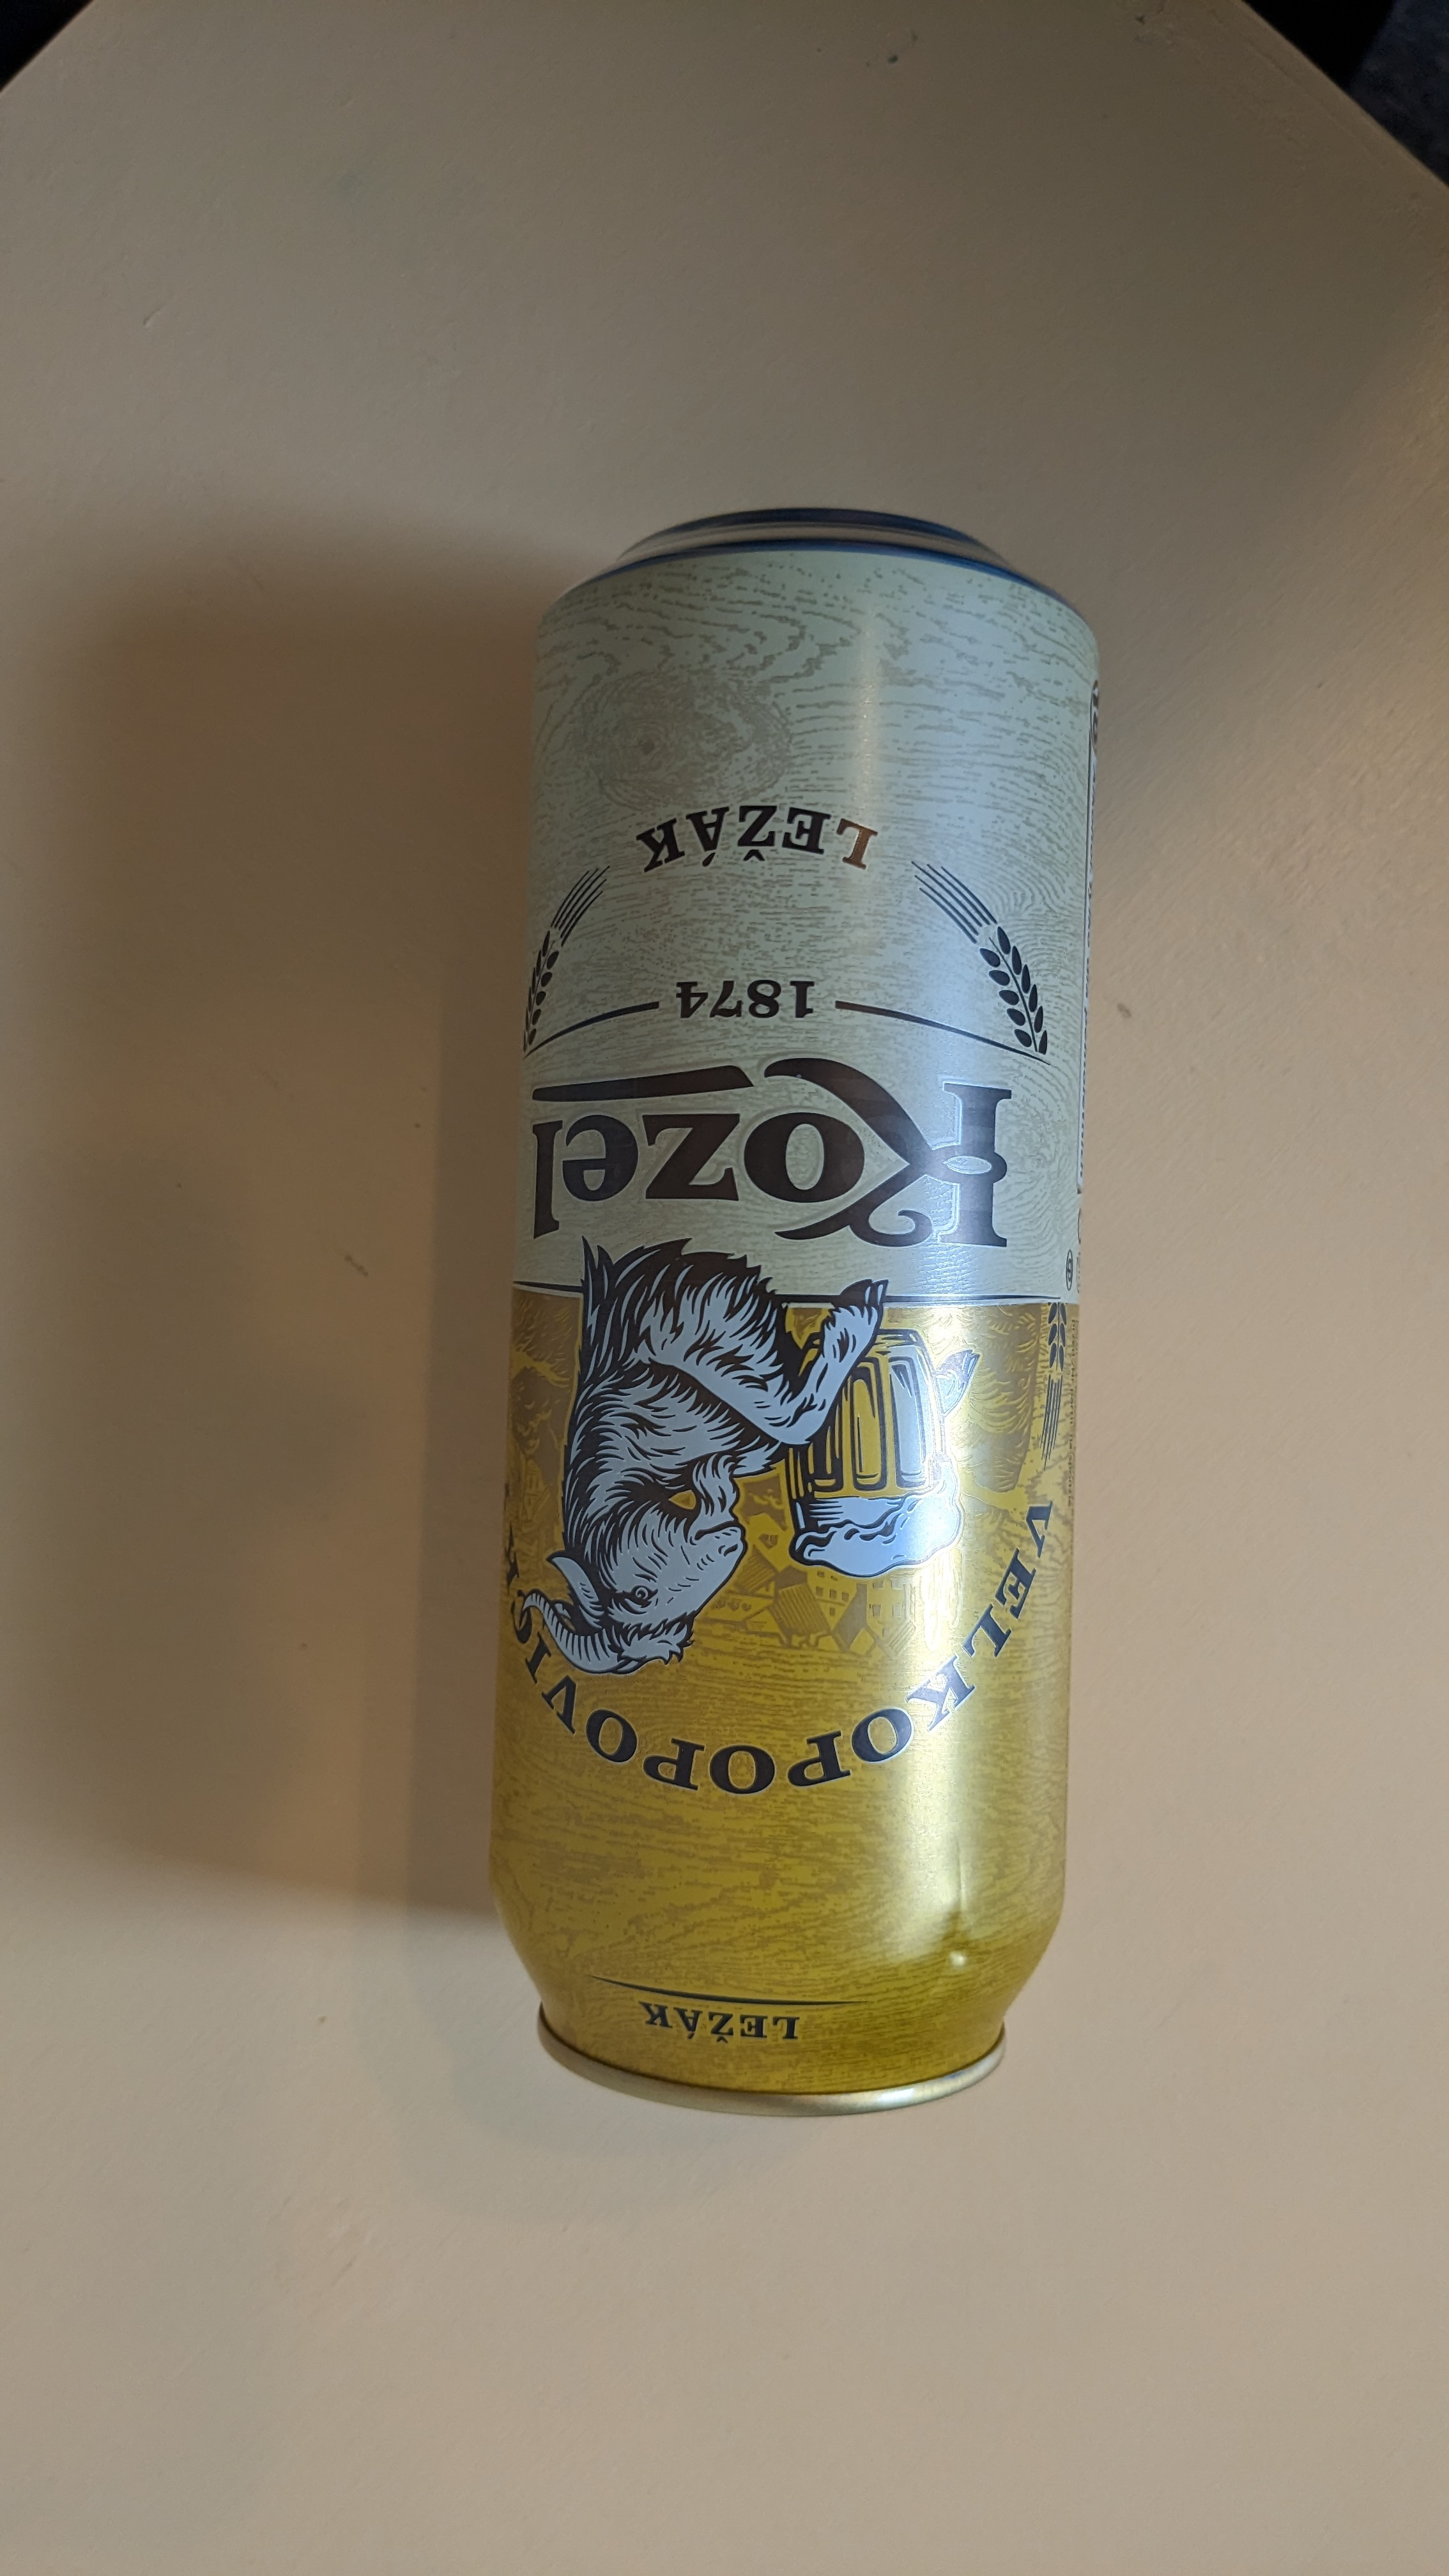kozel: (485, 469, 1102, 2162)
